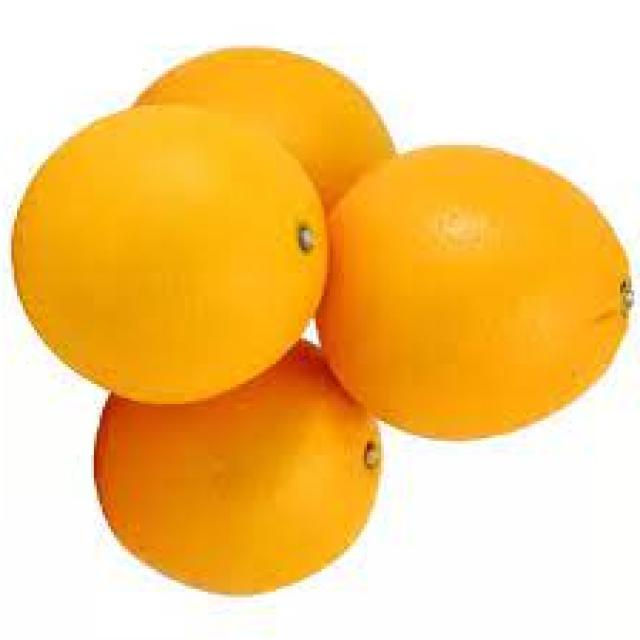Good_Orange: (11, 102, 330, 410), (319, 145, 631, 444), (94, 333, 384, 600)
